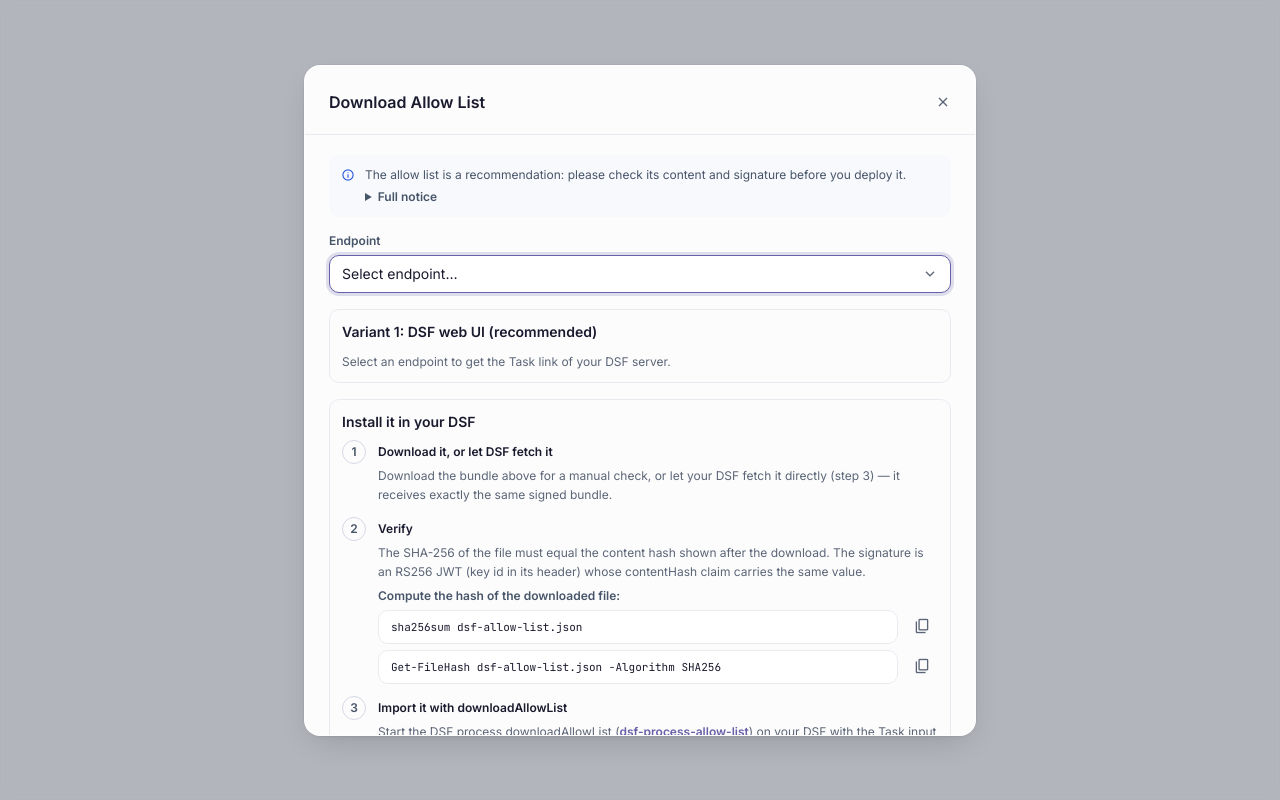
Test: DownloadModal – versioned download and verification › downloads the chosen version, shows hash and signature and confirms a matching hash
Select "Klinik FHIR" in the dropdown labelled "Endpoint" at [640, 274], box [329,254,951,292]
(page scrolled)
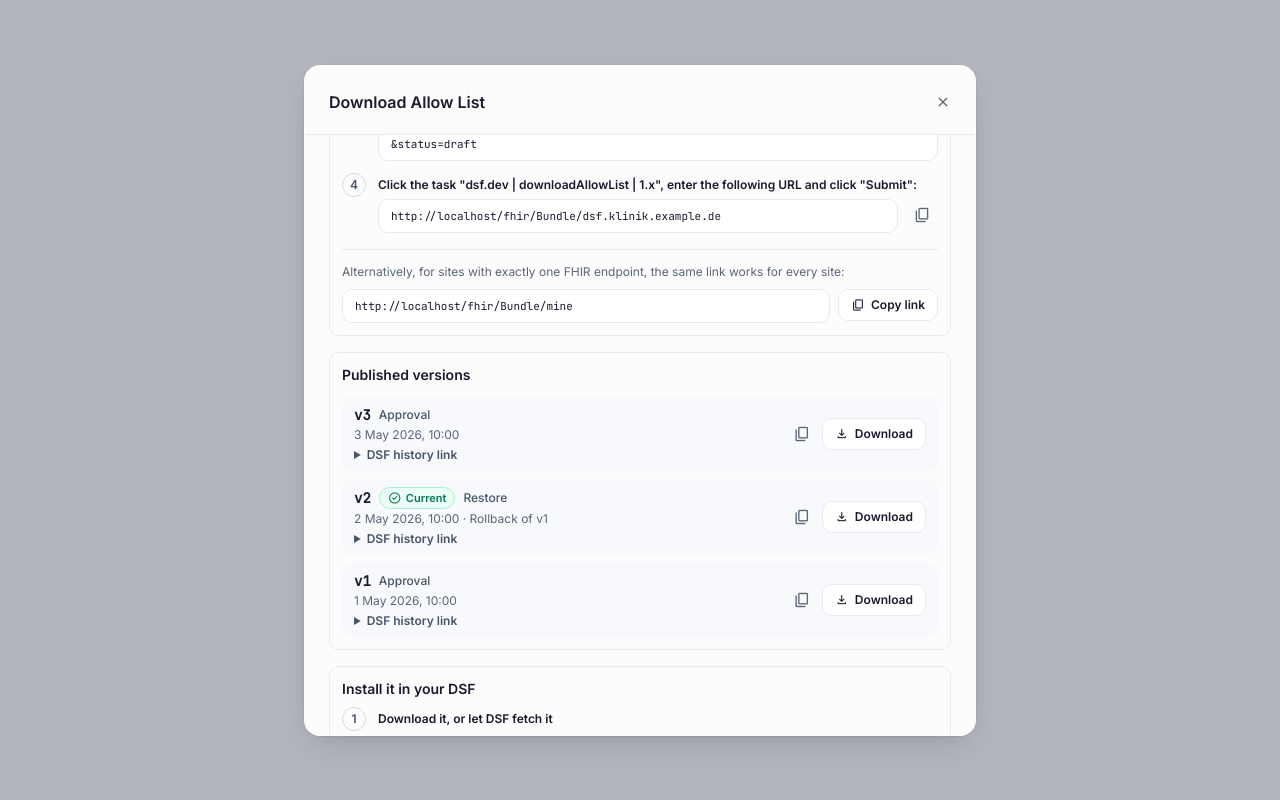
Click the button with test id "download-version-3" at [874, 434], box [822,418,926,450]
(page scrolled)
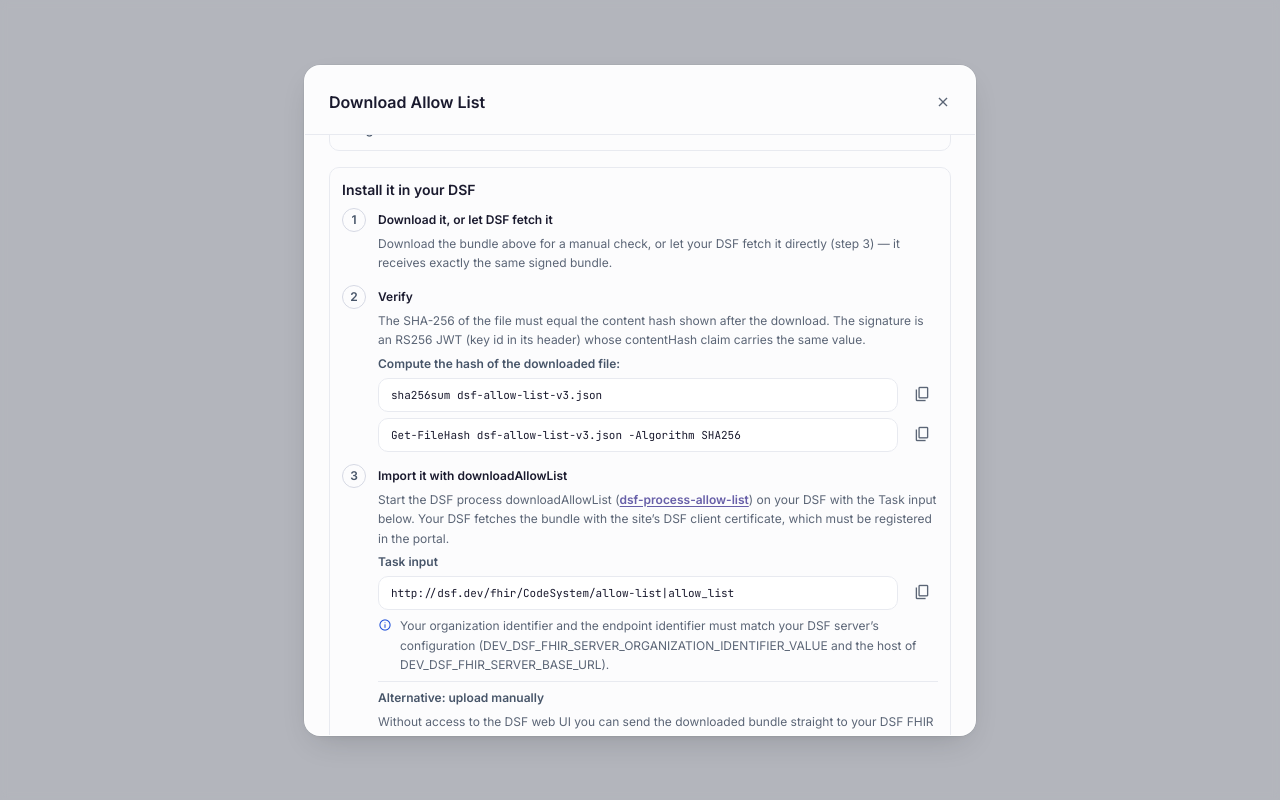
Expected: the text "sha256sum dsf-allow-list-v3.json" is shown, [378,378,898,412]
Expected: the text "Get-FileHash dsf-allow-list-v3.json -Algorithm SHA256" is shown, [378,418,898,452]
